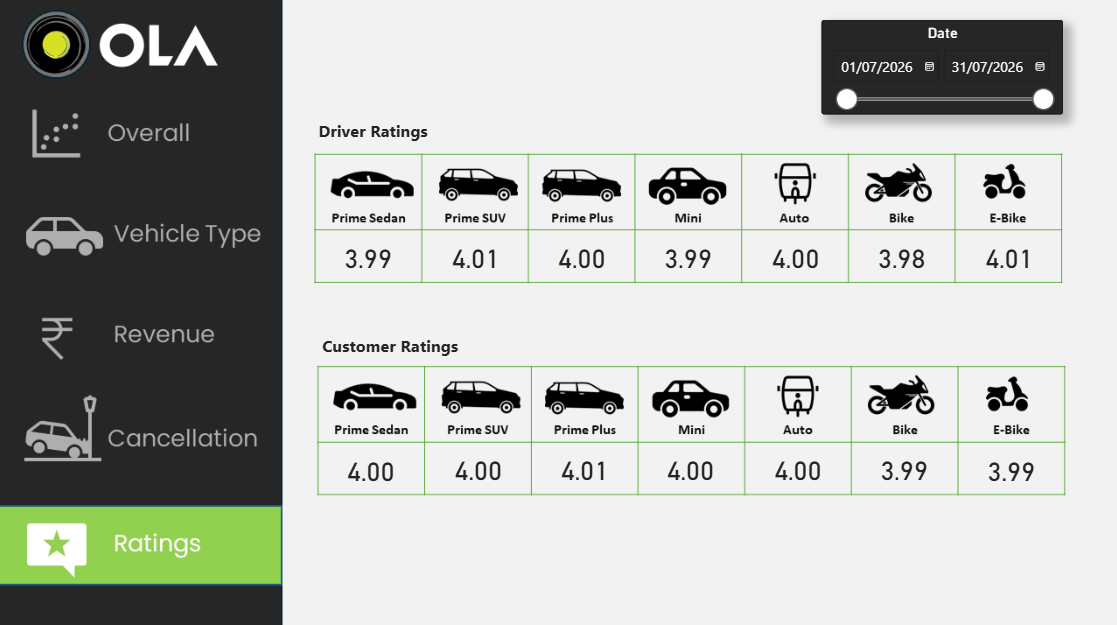

This screenshot's page, from the dashboard's own definition file:
{"tool":"powerbi","page":{"name":"Ratings","canvas":[1280,720],"ordinal":4},"visuals":[{"type":"actionButton","box":[0,222.1,322.7,92],"z":0},{"type":"actionButton","box":[0,338.7,322.7,92],"z":1000},{"type":"actionButton","box":[0,445.4,322.7,92],"z":2000},{"type":"actionButton","box":[1.2,108,322.7,92],"z":3000},{"type":"card","fields":{"Values":["Avg(July.Driver_Ratings)"]},"box":[385.4,272.1,72.5,44.6],"z":4000},{"type":"card","fields":{"Values":["Avg(July.Driver_Ratings)"]},"box":[507.9,271.7,72.5,44.6],"z":5000},{"type":"card","fields":{"Values":["Avg(July.Driver_Ratings)"]},"box":[629.6,271.7,72.5,44.6],"z":6000},{"type":"card","fields":{"Values":["Avg(July.Driver_Ratings)"]},"box":[751.2,271.7,72.5,44.6],"z":7000},{"type":"card","fields":{"Values":["Avg(July.Driver_Ratings)"]},"box":[874.3,271.9,72.9,44.3],"z":8000},{"type":"card","fields":{"Values":["Avg(July.Driver_Ratings)"]},"box":[995.2,271.9,72.4,44.3],"z":9000},{"type":"card","fields":{"Values":["Avg(July.Driver_Ratings)"]},"box":[1118.1,271.9,71.9,44.8],"z":10000},{"type":"card","fields":{"Values":["Avg(July.Customer_Rating)"]},"box":[389.2,514.6,73.1,46.2],"z":11000},{"type":"card","fields":{"Values":["Avg(July.Customer_Rating)"]},"box":[510.8,514.6,73.1,44.6],"z":12000},{"type":"card","fields":{"Values":["Avg(July.Customer_Rating)"]},"box":[633.1,514.6,73.1,44.6],"z":13000},{"type":"card","fields":{"Values":["Avg(July.Customer_Rating)"]},"box":[754.6,514.6,72.3,44.6],"z":14000},{"type":"card","fields":{"Values":["Avg(July.Customer_Rating)"]},"box":[876.9,514.6,72.3,44.6],"z":15000},{"type":"card","fields":{"Values":["Avg(July.Customer_Rating)"]},"box":[998.5,514.6,72.3,44.6],"z":16000},{"type":"card","fields":{"Values":["Avg(July.Customer_Rating)"]},"box":[1120.8,514.6,71.5,45.4],"z":17000},{"type":"textbox","box":[360,131.6,151.6,38.4],"z":18000},{"type":"textbox","box":[364.2,376.8,180,38.4],"z":19000},{"type":"slicer","title":"Date","fields":{"Values":["July.Date"]},"box":[939.6,23.3,275.8,108.3],"z":20000}]}

Visuals, with their boxes in screenshot pixels (x1, y1, x2, y2), scaled from the page's 1280x720 canvas onto the 1117x625 screenshot:
actionButton: select_region(0, 193, 282, 273)
actionButton: select_region(0, 294, 282, 374)
actionButton: select_region(0, 387, 282, 466)
actionButton: select_region(1, 94, 283, 174)
card - Avg(July.Driver_Ratings): select_region(336, 236, 400, 275)
card - Avg(July.Driver_Ratings): select_region(443, 236, 506, 275)
card - Avg(July.Driver_Ratings): select_region(549, 236, 613, 275)
card - Avg(July.Driver_Ratings): select_region(656, 236, 719, 275)
card - Avg(July.Driver_Ratings): select_region(763, 236, 827, 274)
card - Avg(July.Driver_Ratings): select_region(868, 236, 932, 274)
card - Avg(July.Driver_Ratings): select_region(976, 236, 1038, 275)
card - Avg(July.Customer_Rating): select_region(340, 447, 403, 487)
card - Avg(July.Customer_Rating): select_region(446, 447, 510, 485)
card - Avg(July.Customer_Rating): select_region(552, 447, 616, 485)
card - Avg(July.Customer_Rating): select_region(659, 447, 722, 485)
card - Avg(July.Customer_Rating): select_region(765, 447, 828, 485)
card - Avg(July.Customer_Rating): select_region(871, 447, 934, 485)
card - Avg(July.Customer_Rating): select_region(978, 447, 1040, 486)
textbox: select_region(314, 114, 446, 148)
textbox: select_region(318, 327, 475, 360)
"Date" slicer: select_region(820, 20, 1061, 114)
